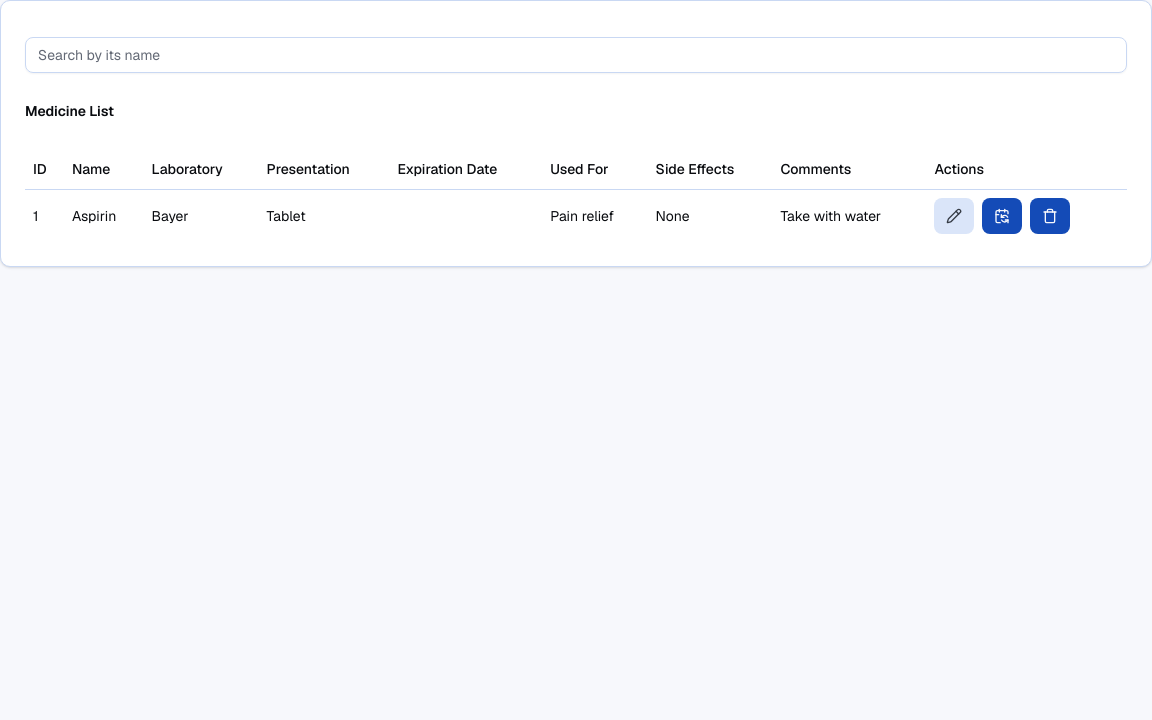
Test: [MedicineTable] › displays delete confirmation dialog when delete button is clicked
Step 1. Click the button named "Delete" → (1050, 216), box x1=1030 y1=198 x2=1070 y2=234
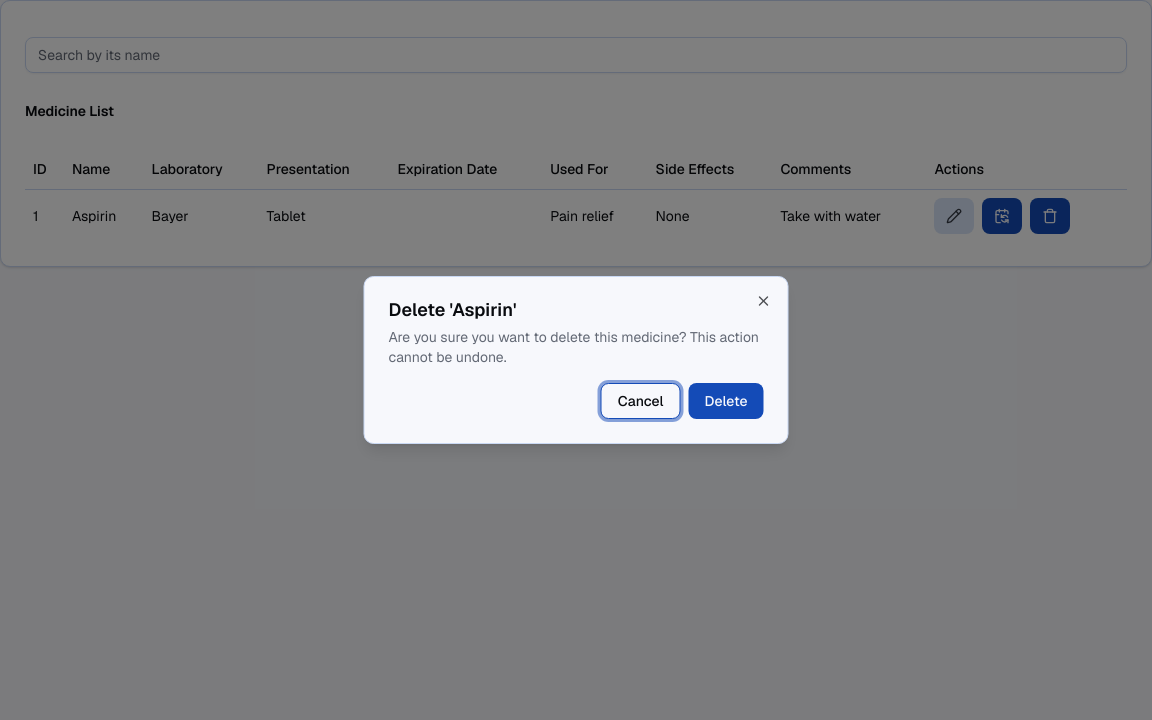
Now the text "Are you sure you want to delete this medicine? This action cannot be undone." is shown, box x1=388 y1=327 x2=764 y2=367
